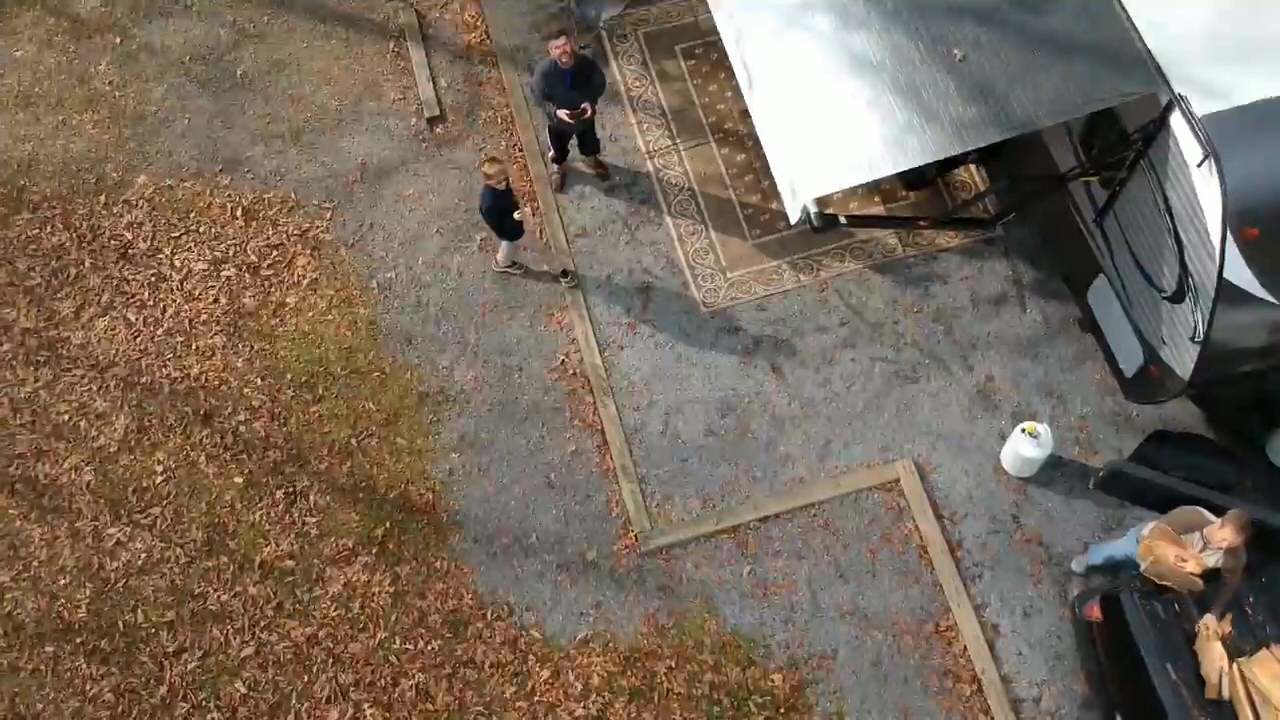insan: (1063, 489, 1268, 646), (526, 19, 612, 195), (473, 149, 531, 282)
